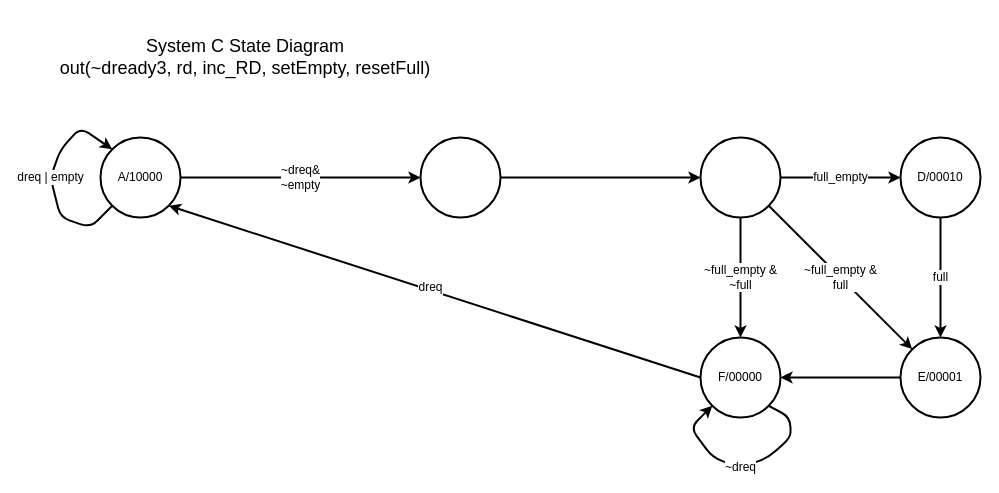
Some shapes in this 999 by 493 pixel diagram are drawn without their labels. Here are the shapes that lost their labels. From the top down, the centre of each, then its label:
At [460,177]: "B/11000".
At [740,177]: "C/00100".
